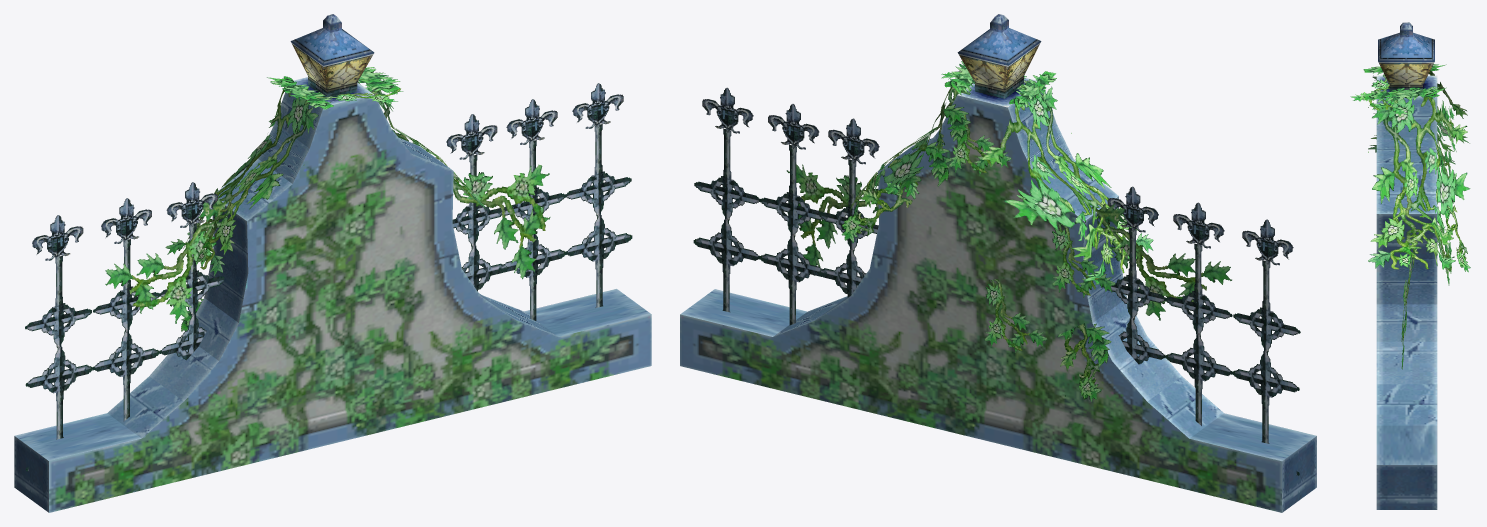
The picture shows the model from 3 angles, left to right: view 1: azimuth 30°, elevation 25°; view 2: azimuth 150°, elevation 25°; view 3: azimuth 270°, elevation 25°; orthographic projection. The views are drawn at different scales.
Parts seen in each view (by area): view 1: geom_node_0; view 2: geom_node_0; view 3: geom_node_0.
Part boxes in pixels (<box>): geom_node_0: <box>14,14,651,512</box>; geom_node_0: <box>680,14,1316,512</box>; geom_node_0: <box>1350,22,1470,509</box>.
Size of the model in its own units: 6.05 by 3.94 by 1.26.
2 materials, 2 textured.
